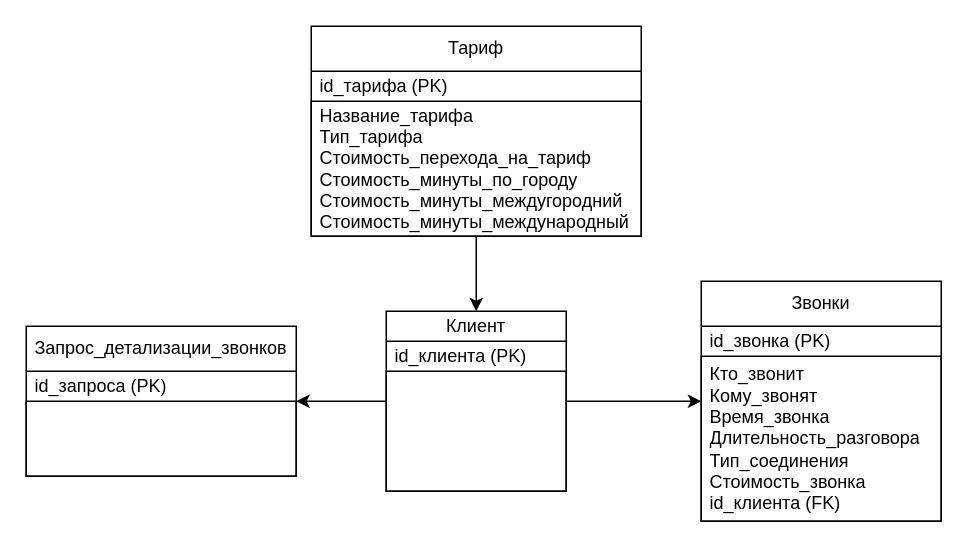
This 968x548 diagram has some shape labels left out. The centre of each missing label's shape, as x and y in pixels:
"Дата_начала Дата_окончания id_клиента (FK)" goes at point (160, 438).
"Имя Тип_клиента Баланс Номер_телефона id_тарифа (FK)" goes at point (475, 430).
